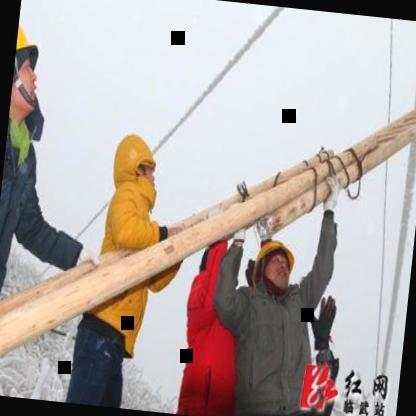helmet: (7, 11, 52, 127), (106, 127, 164, 206), (247, 227, 300, 300)
